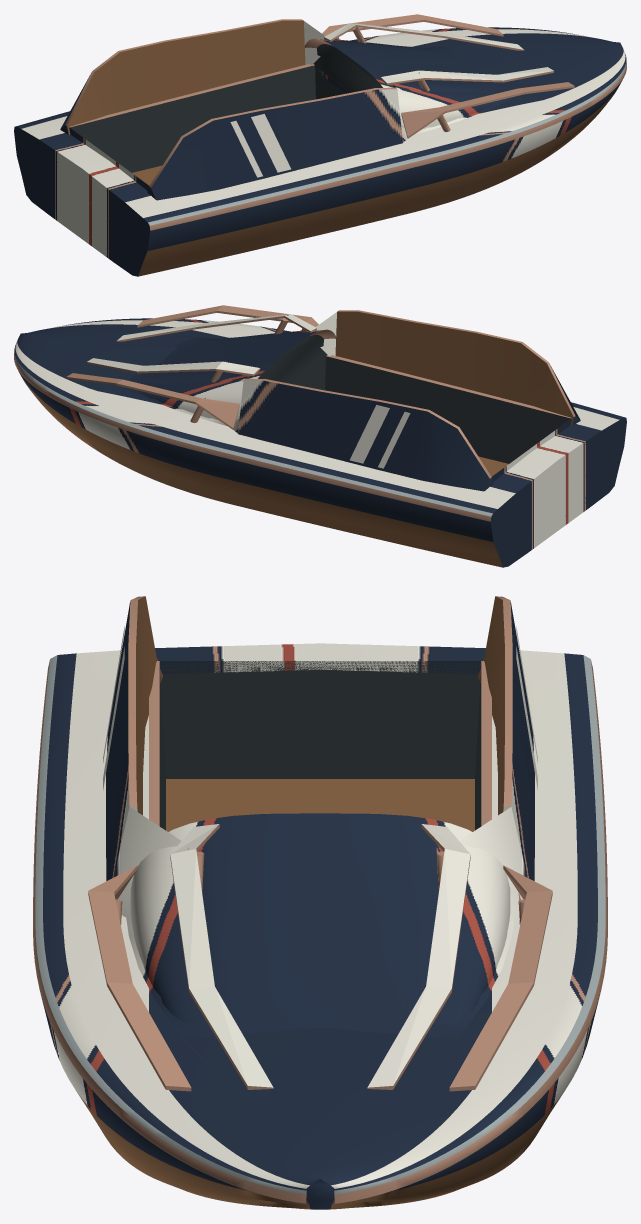
The model's file is Hull_25_SSR_赤銅・濃紺.glb.
3 views of the same model, one above another, from view 1: azimuth 30°, elevation 25°; view 2: azimuth 150°, elevation 25°; view 3: azimuth 270°, elevation 25° (orthographic). The views are drawn at different scales.
Parts seen in each view (by area): view 1: Hull_25_SSR; view 2: Hull_25_SSR; view 3: Hull_25_SSR.
Boxes of the visible parts, <box> form: Hull_25_SSR: <box>14,14,626,276</box>; Hull_25_SSR: <box>14,305,626,567</box>; Hull_25_SSR: <box>33,596,607,1209</box>.
Size of the model in its own units: 2.9 by 0.6856 by 1.34.
4 materials, 4 textured.
